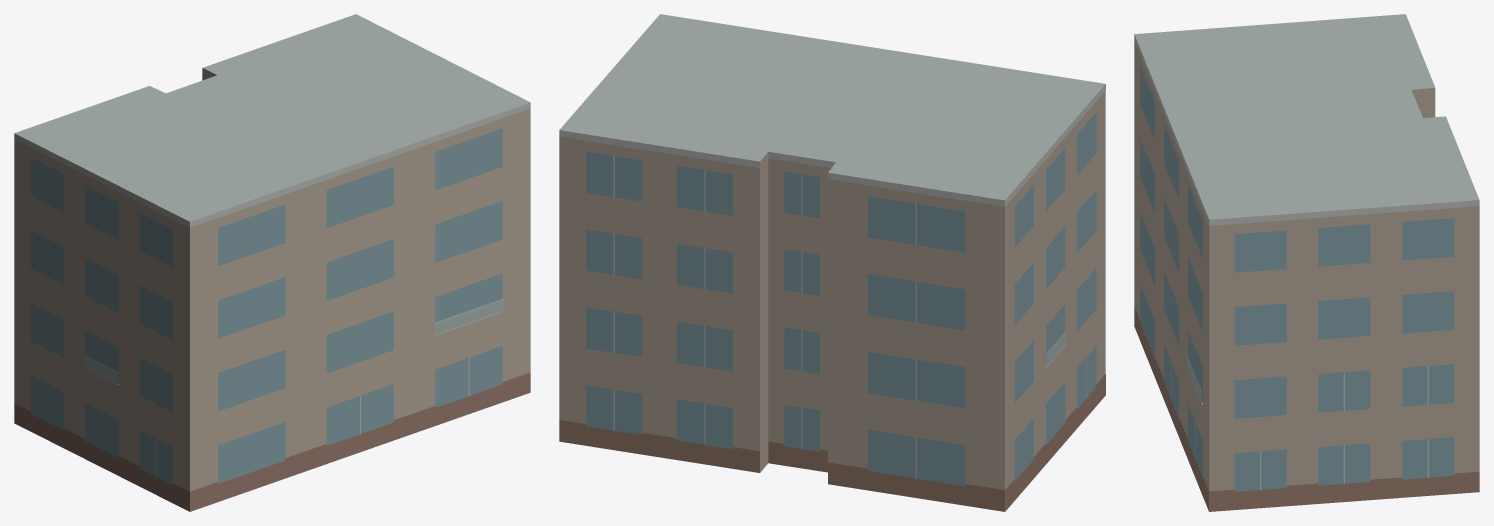
The model's file is survey-upis-32575713.glb.
3 views of the same model, side by side, from view 1: azimuth 30°, elevation 25°; view 2: azimuth 150°, elevation 25°; view 3: azimuth 270°, elevation 25° (orthographic). The views are drawn at different scales.
Visible parts, largest first — view 1: survey-upis-32575713.tmp; view 2: survey-upis-32575713.tmp; view 3: survey-upis-32575713.tmp.
Part boxes in pixels (bbox=[...]): survey-upis-32575713.tmp: bbox=[14, 14, 530, 511]; survey-upis-32575713.tmp: bbox=[559, 14, 1105, 511]; survey-upis-32575713.tmp: bbox=[1134, 14, 1479, 511].
Size of the model in its own units: 17.69 by 11.7 by 12.54.
